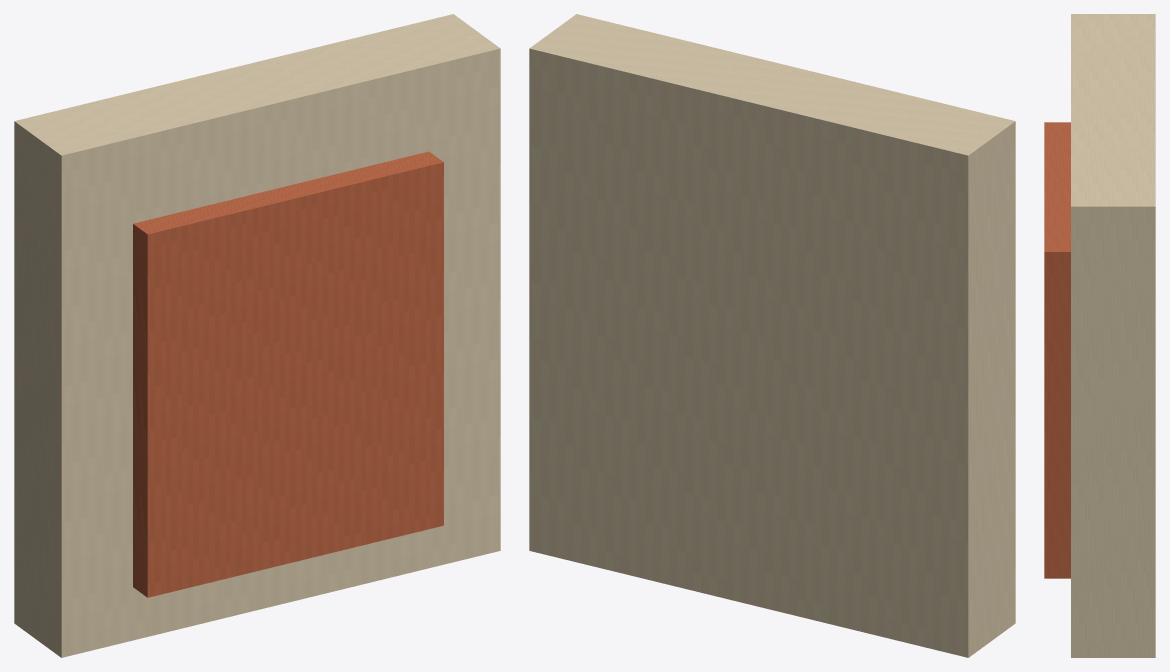
Rendered from heraldic-crest-lod1.glb.
3 renders of one model, left to right at view 1: azimuth 30°, elevation 25°; view 2: azimuth 150°, elevation 25°; view 3: azimuth 270°, elevation 25°, orthographic. The views are drawn at different scales.
Visible parts, largest first — view 1: heraldic-crest-lod1; view 2: heraldic-crest-lod1; view 3: heraldic-crest-lod1.
Part boxes in pixels (bbox=[...]): heraldic-crest-lod1: bbox=[14, 14, 500, 657]; heraldic-crest-lod1: bbox=[529, 14, 1015, 657]; heraldic-crest-lod1: bbox=[1044, 14, 1155, 657].
Size of the model in its own units: 0.86 by 0.94 by 0.21.
Materials: 1 (1 with a texture image).
